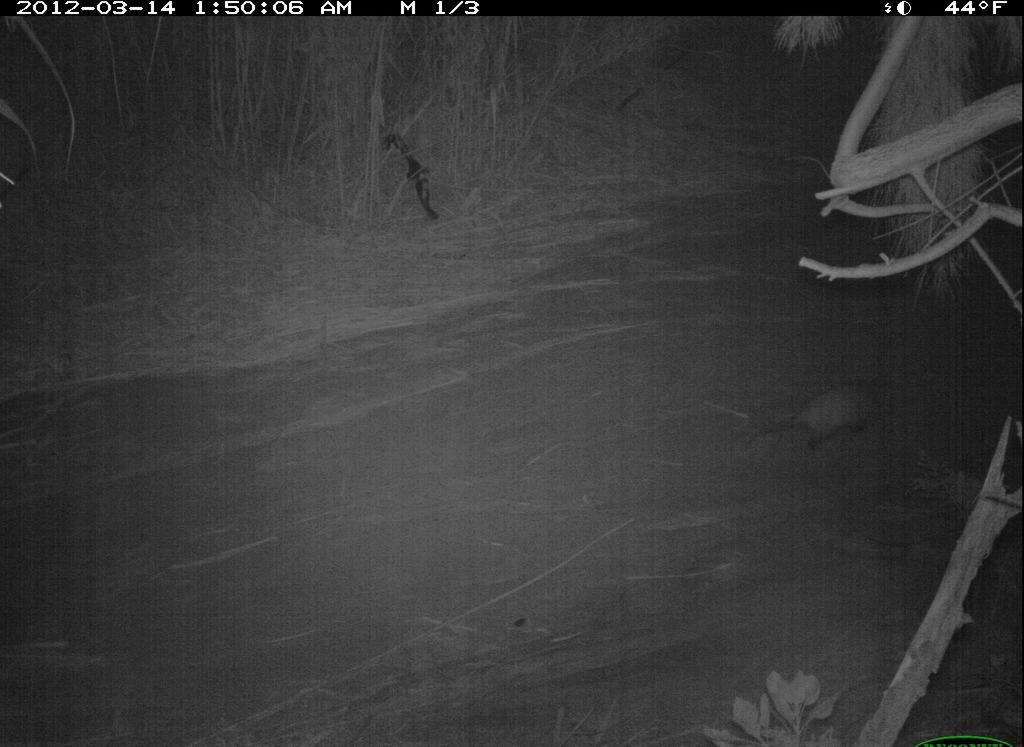opossum: (743, 370, 903, 457)
